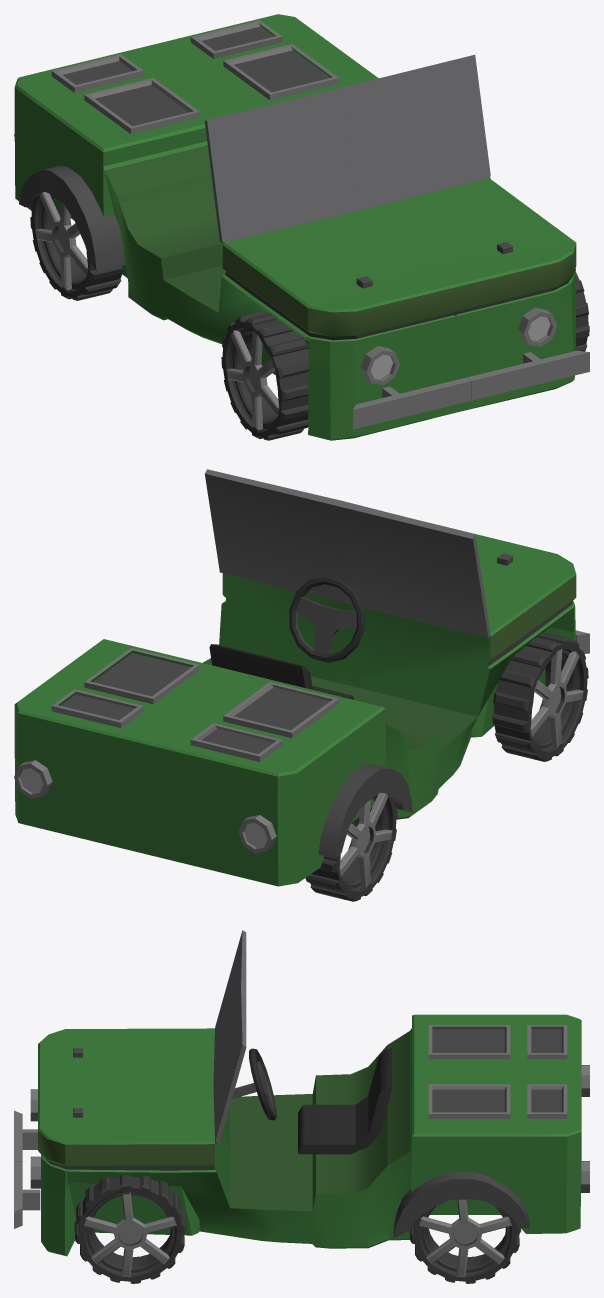
Rendered from JEEPFINAL.fbx.
3 views of the same model, one above another, from view 1: azimuth 30°, elevation 25°; view 2: azimuth 150°, elevation 25°; view 3: azimuth 270°, elevation 25° (orthographic). The views are drawn at different scales.
Parts seen in each view (by area): view 1: Cube, Cylinder.006, Cube.008, Cube.001, Cube.007, Cube.004, Cube.010; view 2: Cube, Cylinder.006, Cube.008, Cube.014, Cube.013, Cube.005, Cube.011; view 3: Cube, Cylinder.006, Cube.013, Cube.002, Cube.014, Cube.001, Cube.007.
Part boxes in pixels (box(x1,y1,x2,y2)): Cube: box(14, 14, 576, 440); Cylinder.006: box(30, 192, 589, 440); Cube.008: box(19, 165, 125, 271); Cube.001: box(466, 350, 589, 400); Cube.007: box(353, 377, 471, 429); Cube.004: box(518, 308, 557, 346); Cube.010: box(360, 346, 399, 385); Cube: box(14, 469, 576, 886); Cylinder.006: box(305, 632, 588, 901); Cube.008: box(318, 764, 412, 858); Cube.014: box(289, 576, 364, 662); Cube.013: box(209, 644, 353, 699); Cube.005: box(14, 760, 52, 798); Cube.011: box(238, 815, 276, 853); Cube: box(38, 930, 581, 1256); Cylinder.006: box(74, 1174, 521, 1283); Cube.013: box(298, 1047, 391, 1154); Cube.002: box(393, 1172, 529, 1237); Cube.014: box(232, 1048, 276, 1120); Cube.001: box(14, 1161, 40, 1228); Cube.007: box(14, 1110, 37, 1161).
Bounding box in the file's own units: 236 × 189 × 424.
